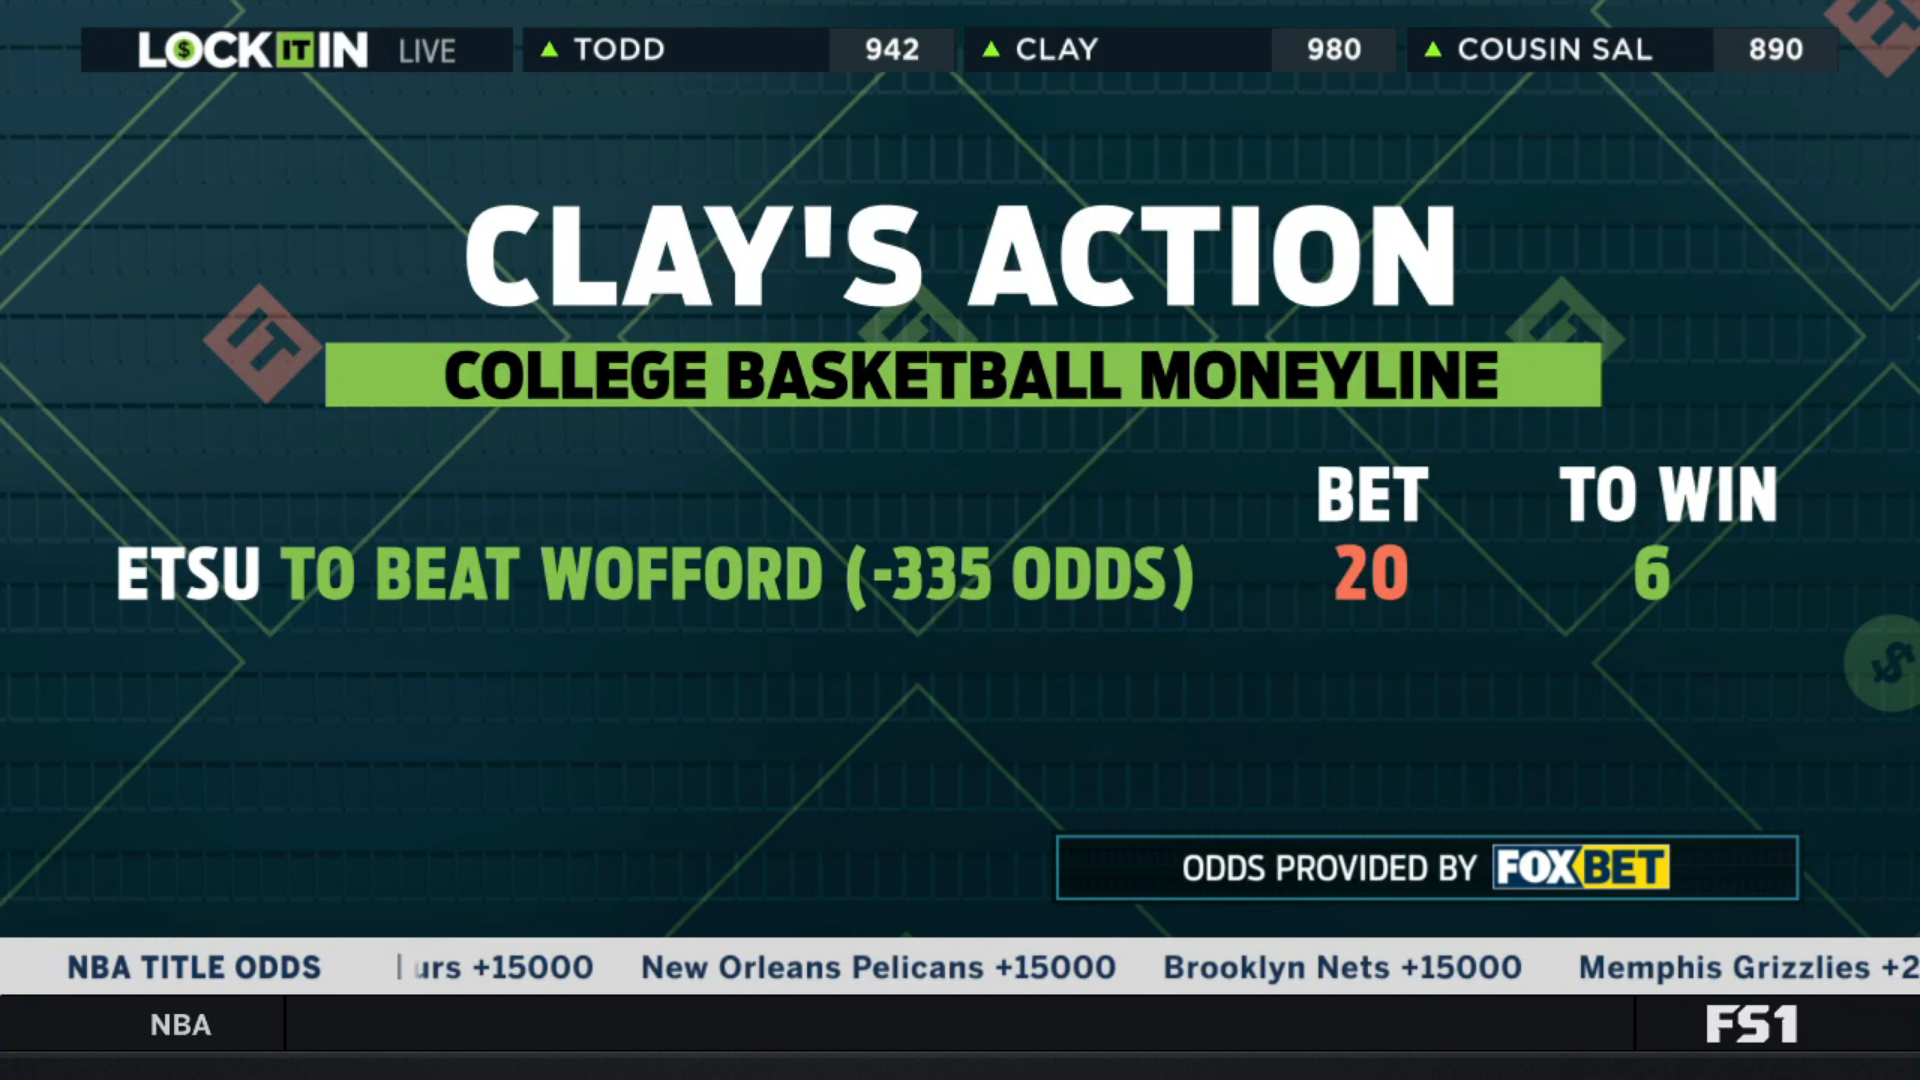Bet: (98, 533, 1204, 620)
Bet Amount: (1308, 455, 1439, 611)
Subtitle: (315, 332, 1611, 419)
Title: (452, 189, 1472, 320)
To Win: (1551, 458, 1789, 608)
Top Bar: (76, 20, 1849, 76)
